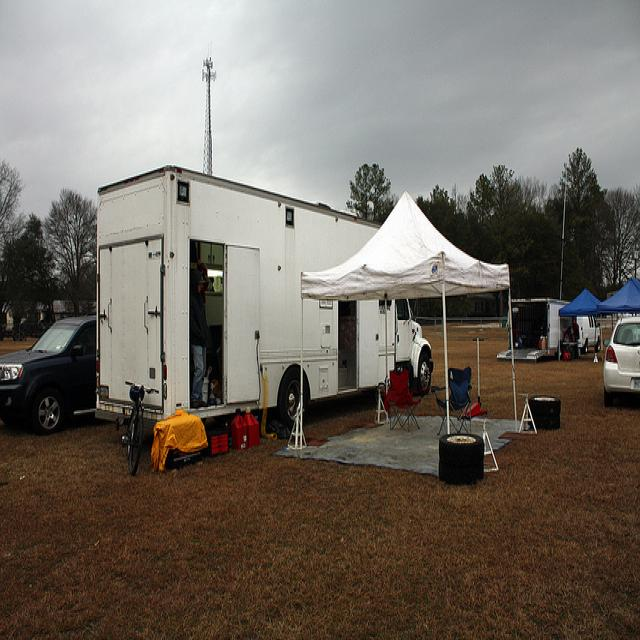Vehicle: (79, 165, 438, 439), (0, 314, 96, 434), (498, 301, 601, 358), (603, 313, 640, 406)
